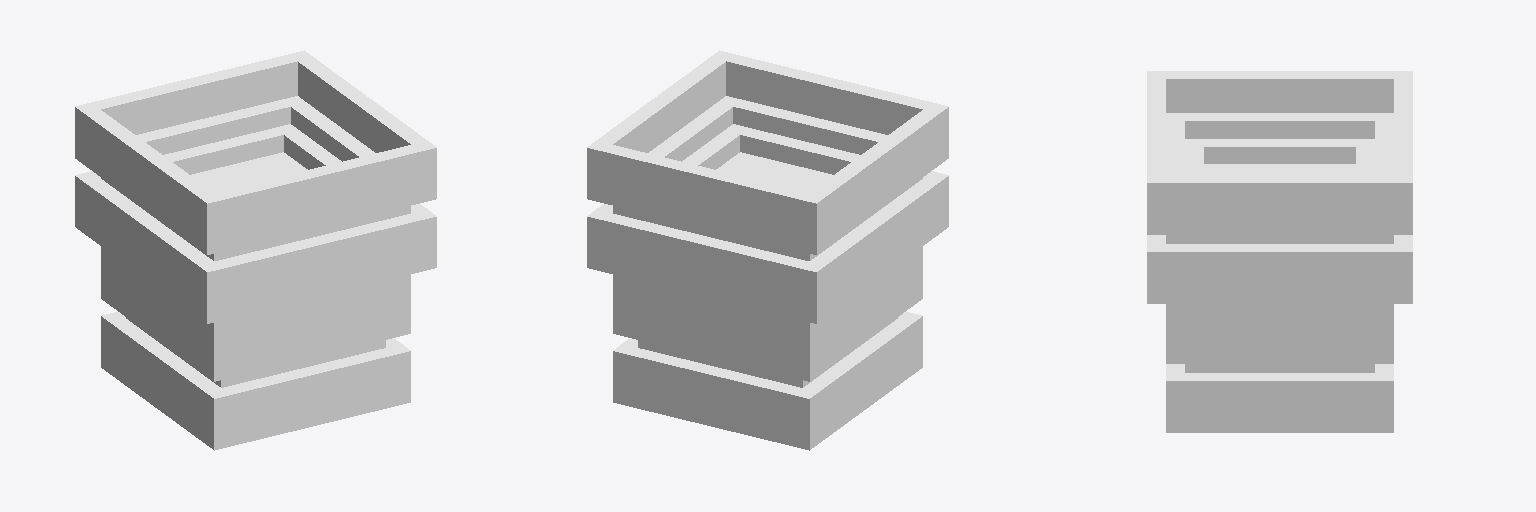
File: mediumTorch.obj
3 renders of one model, left to right at view 1: azimuth 30°, elevation 25°; view 2: azimuth 150°, elevation 25°; view 3: azimuth 270°, elevation 25°, orthographic.
Bounding box in the file's own units: 14 × 15 × 14.